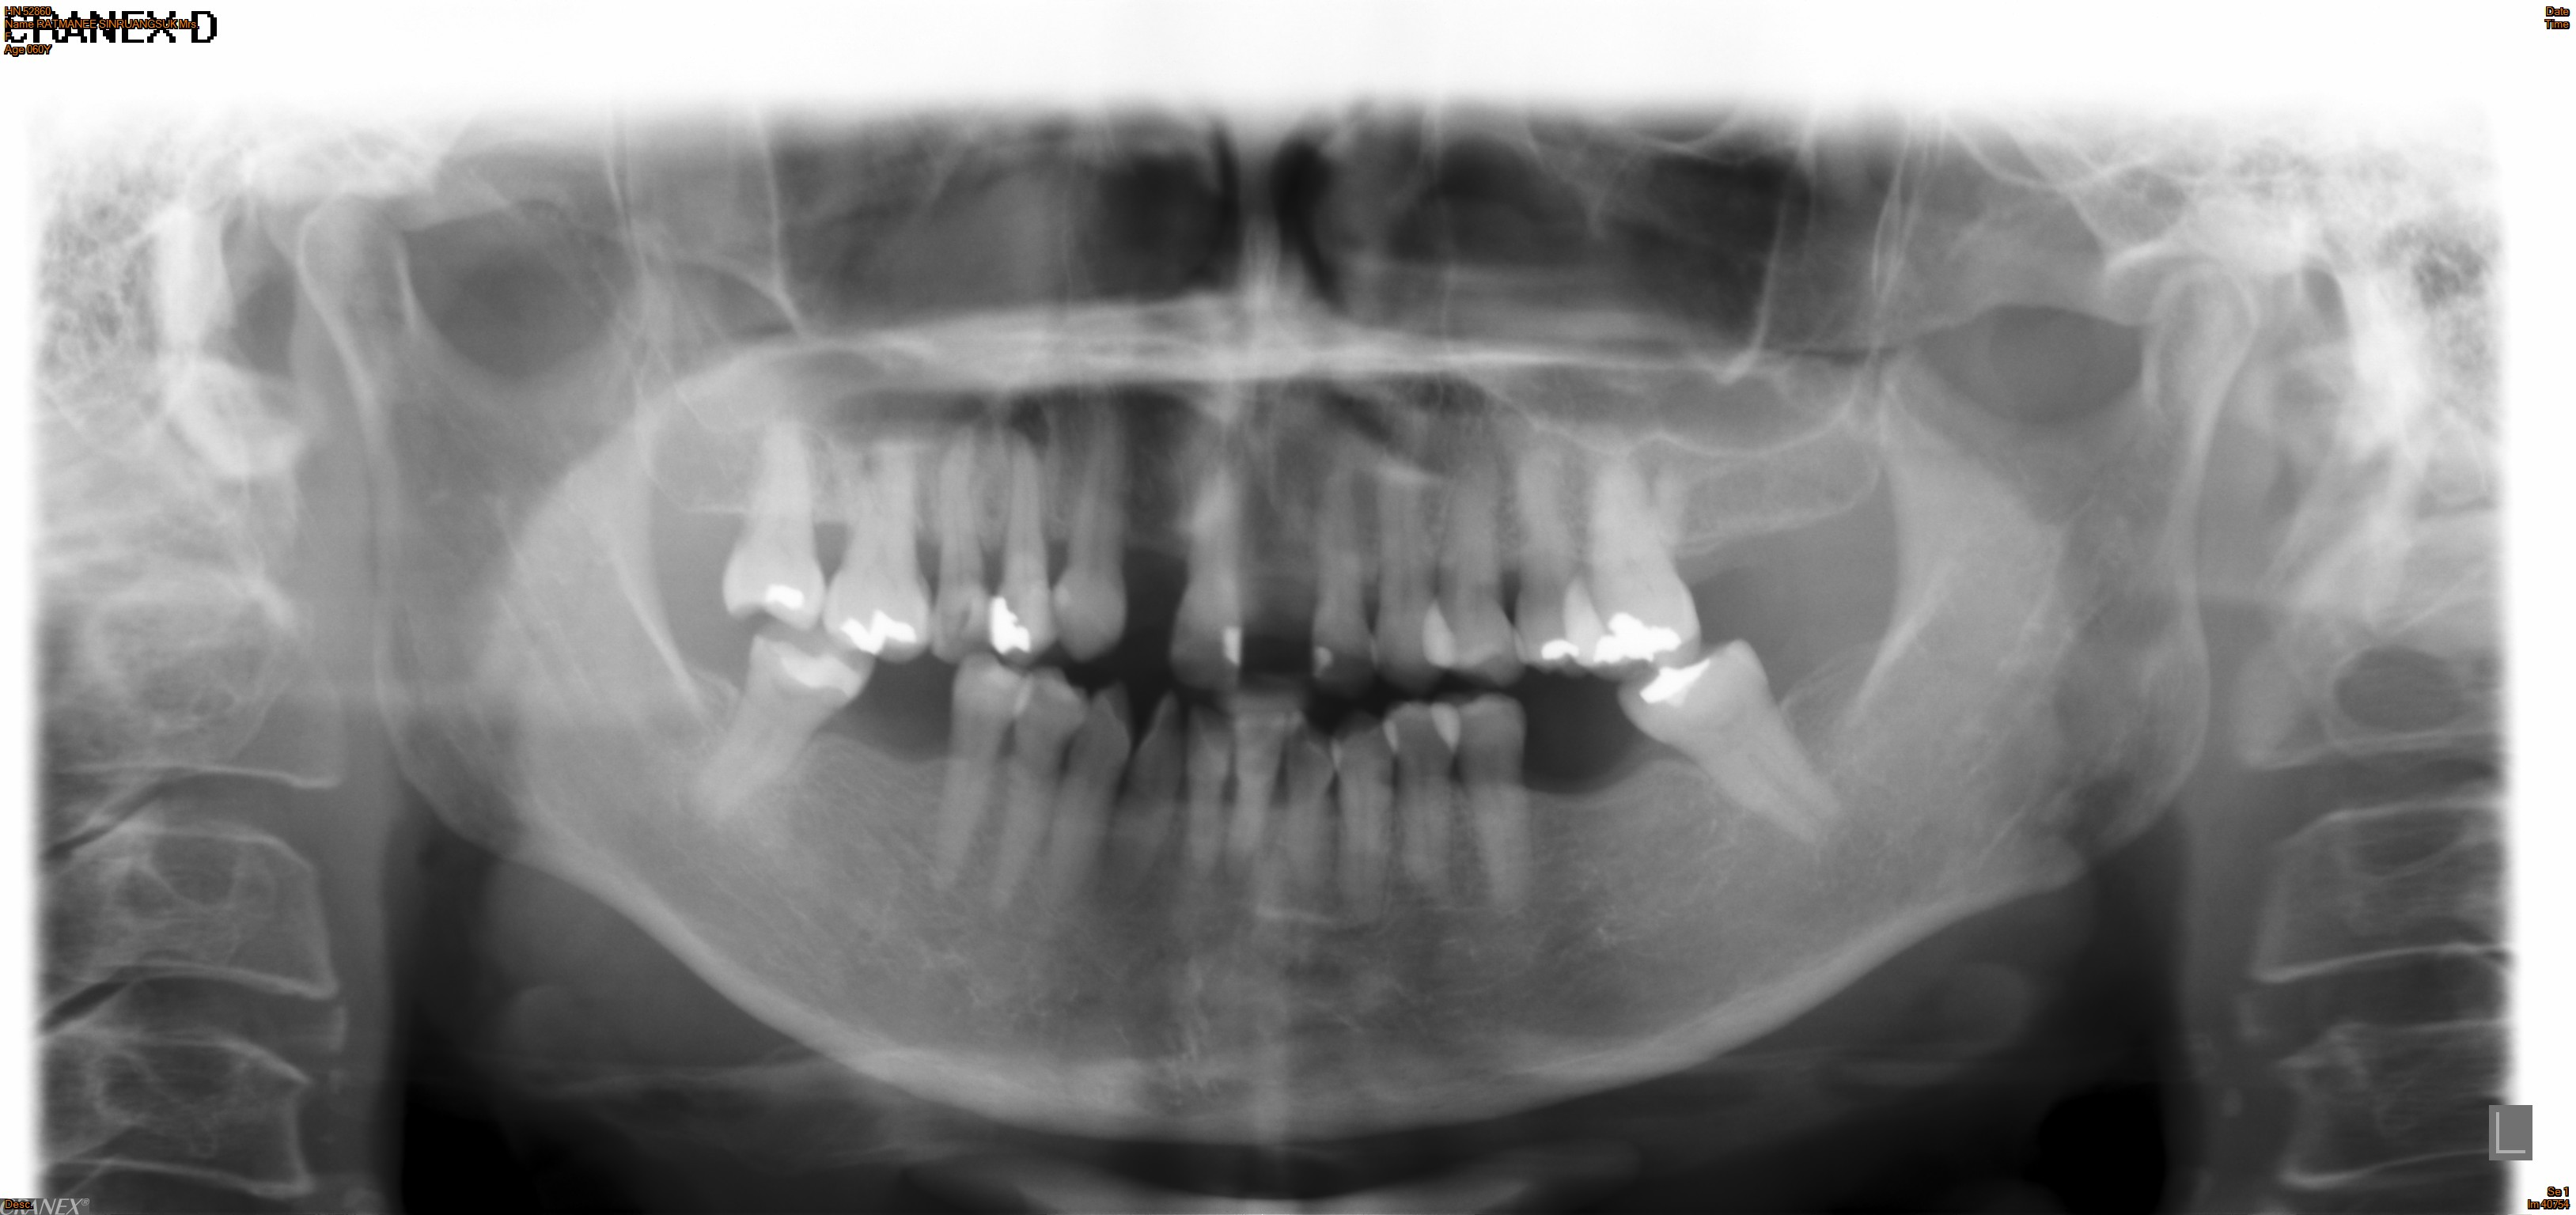periodontitis: (1613, 639, 1871, 855), (667, 624, 881, 828), (1577, 430, 1705, 673), (920, 645, 1037, 901), (706, 412, 838, 634), (821, 430, 940, 670), (1446, 685, 1548, 923), (1508, 433, 1598, 676)
